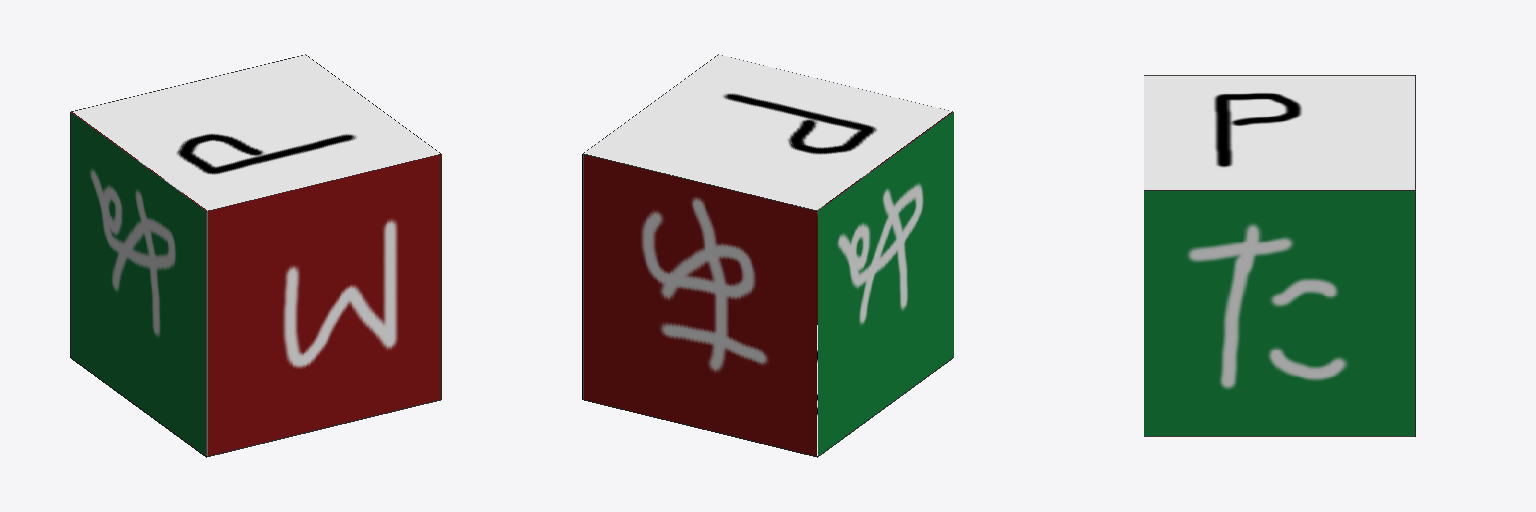
3 renders of one model, left to right at view 1: azimuth 30°, elevation 25°; view 2: azimuth 150°, elevation 25°; view 3: azimuth 270°, elevation 25°, orthographic.
Visible parts, largest first — view 1: Cube; view 2: Cube; view 3: Cube.
Boxes of the visible parts, <box> form: Cube: <box>70,54,441,457</box>; Cube: <box>582,54,953,457</box>; Cube: <box>1144,75,1415,436</box>.
Size of the model in its own units: 2 by 2 by 2.
Materials: 1 (1 with a texture image).